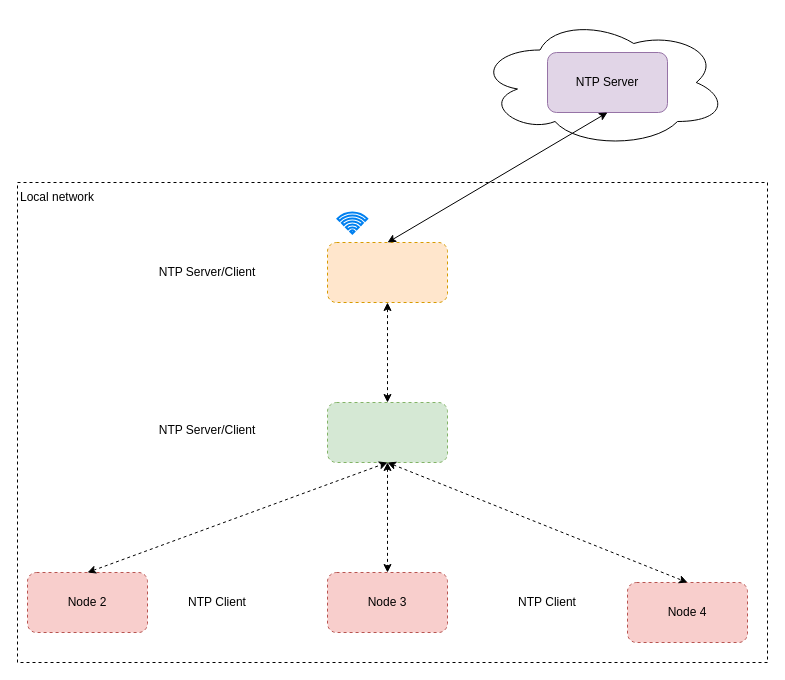
This 785x680 diagram has some shape labels left out. Each missing label, with the centre of its shape:
Edge: the point at 387,272
Node 1: the point at 387,432
